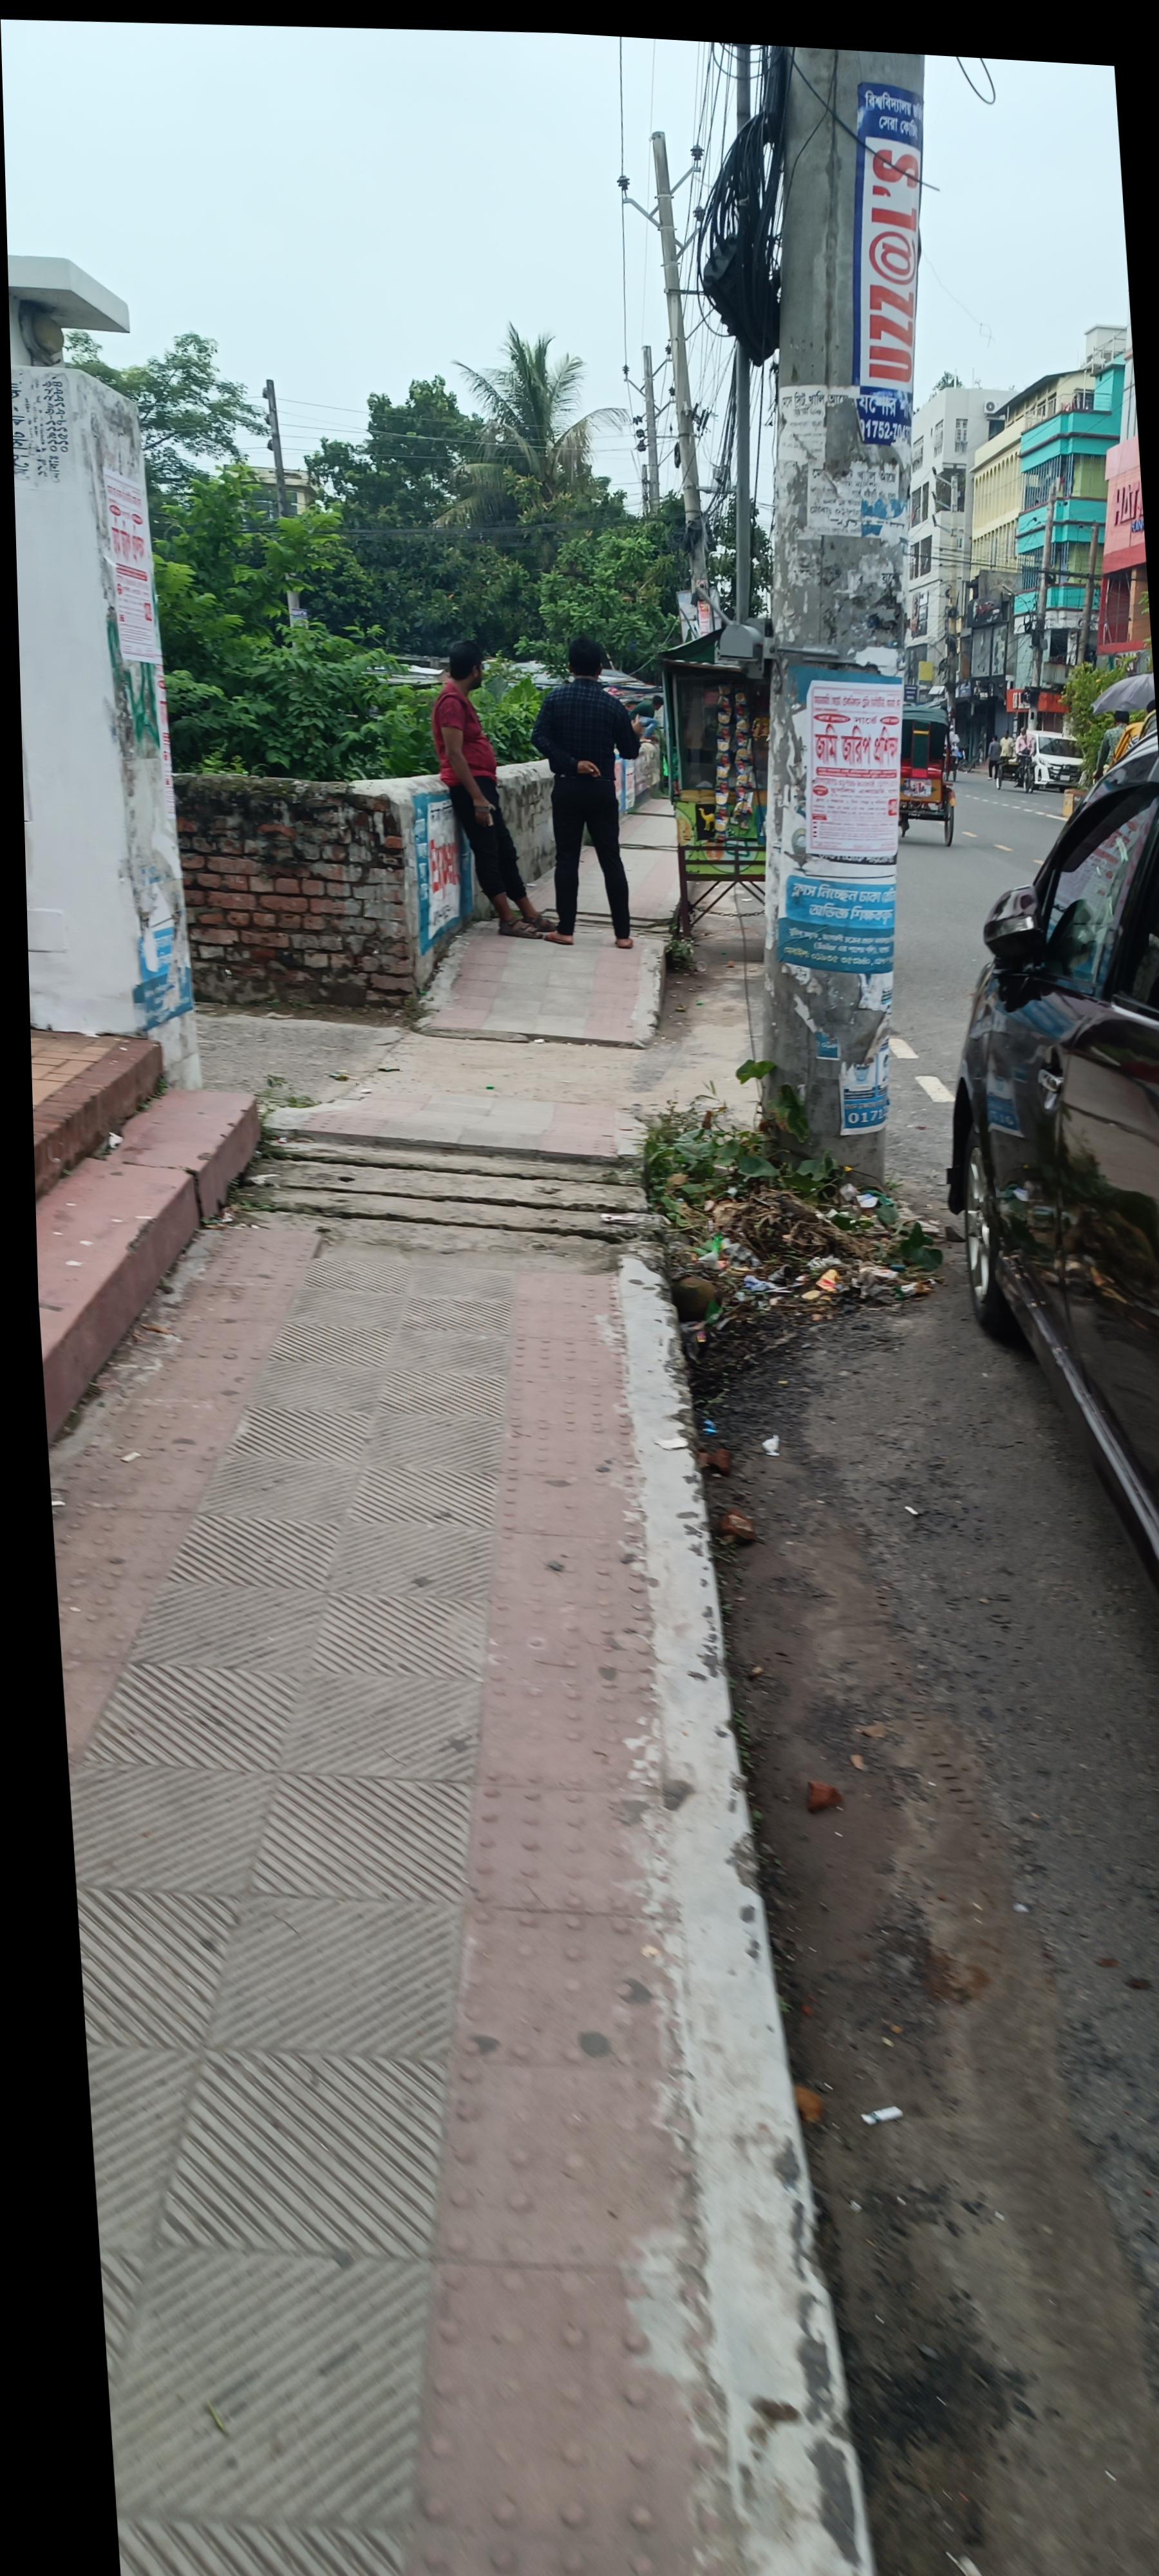Garbage: (602, 624, 742, 956)
Garbage-bin: (476, 642, 607, 963), (379, 647, 509, 954)
Pothole: (18, 764, 824, 2576)
Traffic-cone: (845, 706, 913, 853)
